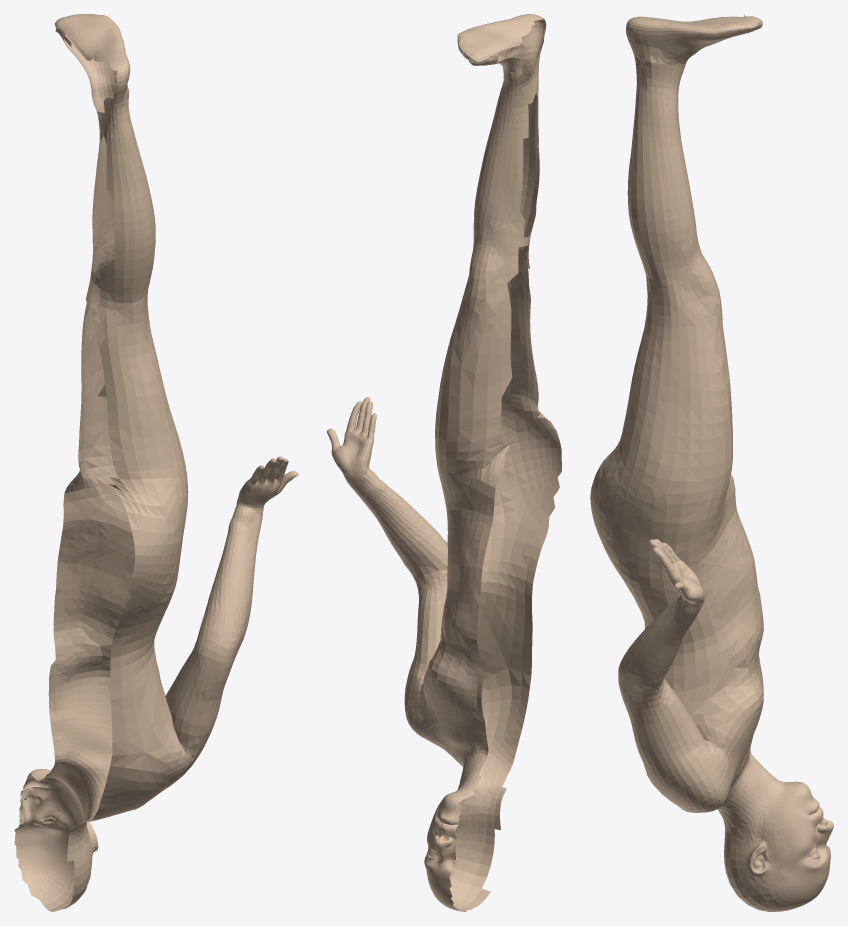
File: body_right_half.obj
3 renders of one model, left to right at view 1: azimuth 30°, elevation 25°; view 2: azimuth 150°, elevation 25°; view 3: azimuth 270°, elevation 25°, orthographic. The views are drawn at different scales.
Parts seen in each view (by area): view 1: Half; view 2: Half; view 3: Half.
Boxes of the visible parts, x1,y1,x2,y2 form: Half: (14,14,298,911); Half: (327,14,561,911); Half: (590,14,833,911).
Size of the model in its own units: 0.4337 by 1.8 by 0.4412.
